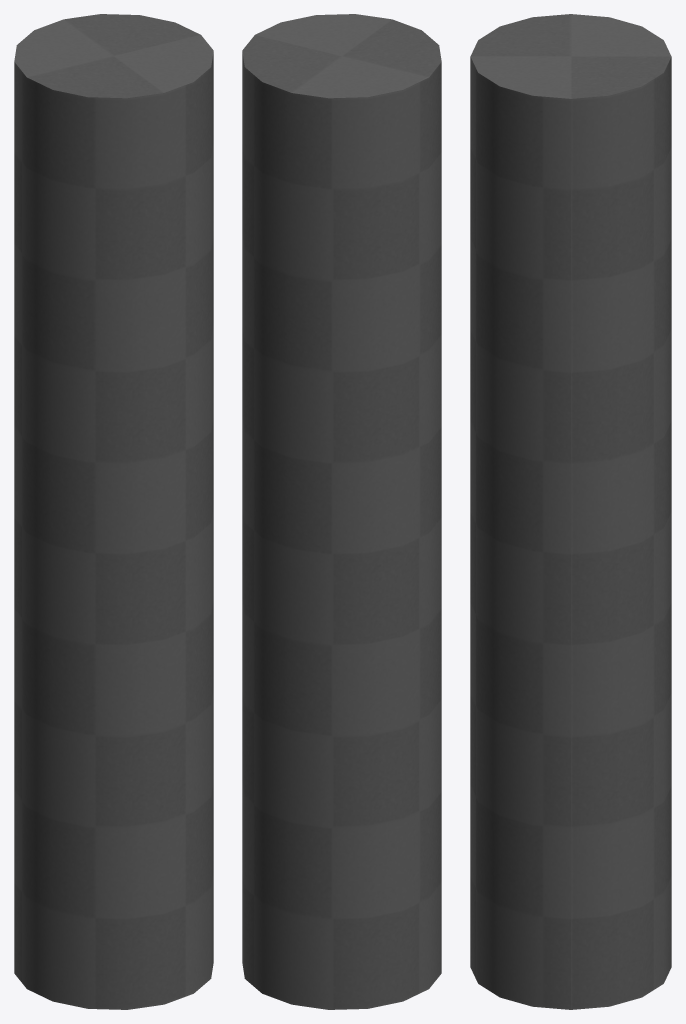
File: Cylinder_AEB977A3.glb
3 renders of one model, left to right at view 1: azimuth 30°, elevation 25°; view 2: azimuth 150°, elevation 25°; view 3: azimuth 270°, elevation 25°, orthographic.
Visible parts, largest first — view 1: Cylinder_AEB977A3; view 2: Cylinder_AEB977A3; view 3: Cylinder_AEB977A3.
Boxes of the visible parts, x1,y1,x2,y2 form: Cylinder_AEB977A3: (14, 14, 213, 1009); Cylinder_AEB977A3: (242, 14, 441, 1009); Cylinder_AEB977A3: (470, 14, 671, 1009).
Size of the model in its own units: 200 by 1000 by 200.
Materials: 1 (1 with a texture image).
